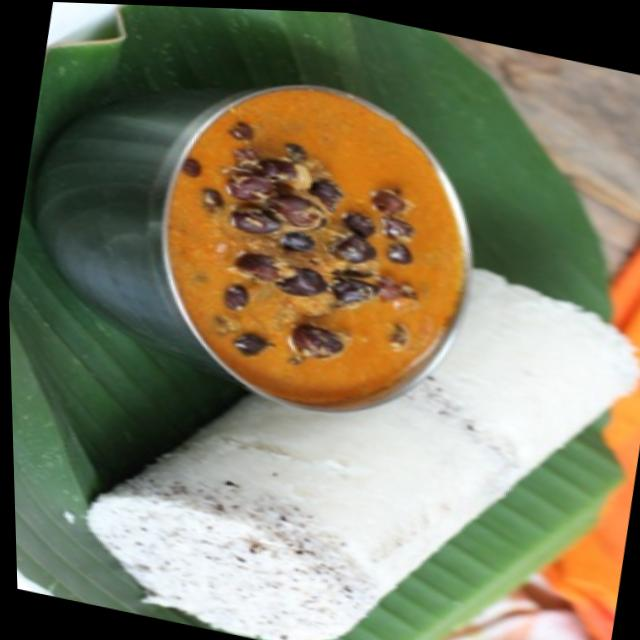CURRY: (177, 97, 457, 401)
RICE: (90, 267, 632, 639)
